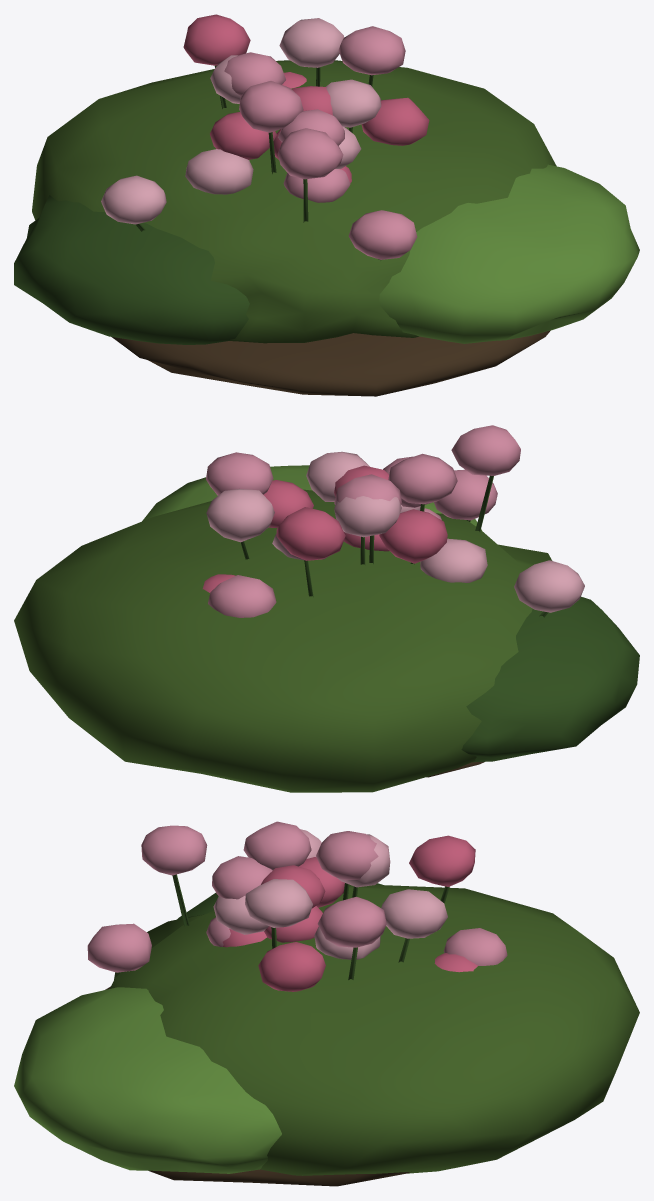
The model's file is flower_pink.glb.
The picture shows the model from 3 angles, top to bottom: view 1: azimuth 30°, elevation 25°; view 2: azimuth 150°, elevation 25°; view 3: azimuth 270°, elevation 25°; orthographic projection. The views are drawn at different scales.
Parts seen in each view (by area): view 1: geometry_0; view 2: geometry_0; view 3: geometry_0.
Part boxes in pixels (box(x1,y1,x2,y2)): geometry_0: box(14, 14, 639, 396); geometry_0: box(14, 425, 639, 792); geometry_0: box(14, 821, 639, 1186).
Bounding box in the file's own units: 1.36 × 0.636 × 1.39.
